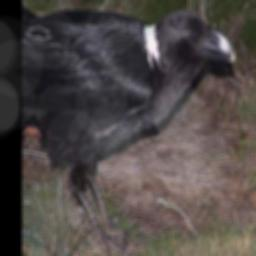Crow: (23, 0, 239, 256)
